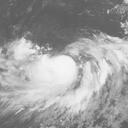cyclone: (31, 55, 77, 90)
